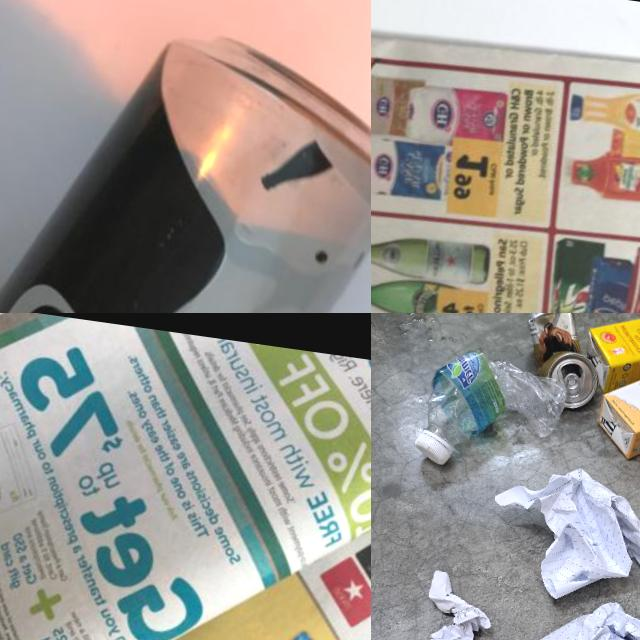aba de lata: (561, 370, 584, 398)
caixinha: (591, 341, 640, 470), (580, 313, 640, 404)
garrafa plástica: (410, 338, 572, 482)
lata: (0, 1, 371, 313), (518, 313, 606, 412)
papel: (0, 313, 371, 640), (371, 1, 640, 313), (479, 455, 640, 615), (418, 569, 498, 640)
tampa plástica: (409, 427, 456, 470)
